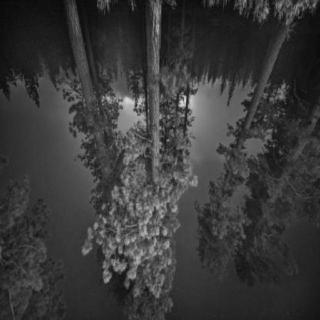Fire: (101, 91, 145, 108), (178, 94, 188, 112)
